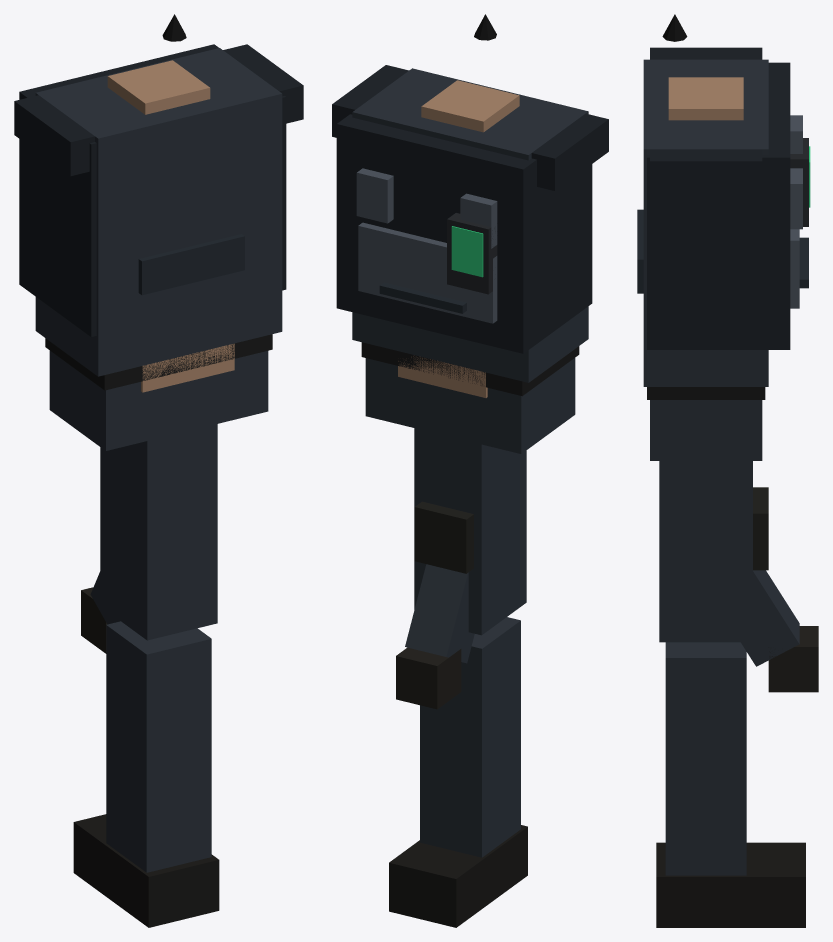
The model's file is operator_pulse.glb.
The picture shows the model from 3 angles, left to right: view 1: azimuth 30°, elevation 25°; view 2: azimuth 150°, elevation 25°; view 3: azimuth 270°, elevation 25°; orthographic projection. The views are drawn at different scales.
Visible parts, largest first — view 1: torso, legL, hips, head, armL; view 2: torso, legL, hips, armL, head, torso_glow; view 3: torso, legL, hips, armL, head.
Boxes of the visible parts, x1=… form: torso: x1=14, y1=14, x2=303, y2=376; legL: x1=73, y1=424, x2=219, y2=927; hips: x1=45, y1=334, x2=272, y2=450; head: x1=138, y1=234, x2=244, y2=392; armL: x1=81, y1=571, x2=120, y2=653; torso: x1=332, y1=14, x2=608, y2=382; legL: x1=389, y1=428, x2=527, y2=927; hips: x1=361, y1=342, x2=579, y2=453; armL: x1=396, y1=564, x2=474, y2=709; head: x1=379, y1=282, x2=487, y2=397; torso_glow: x1=451, y1=226, x2=483, y2=277; torso: x1=643, y1=14, x2=808, y2=386; legL: x1=656, y1=461, x2=805, y2=927; hips: x1=647, y1=387, x2=765, y2=460; armL: x1=741, y1=570, x2=818, y2=692; head: x1=637, y1=209, x2=808, y2=293.
Bounding box in the file's own units: 0.43 × 1.58 × 0.29.
